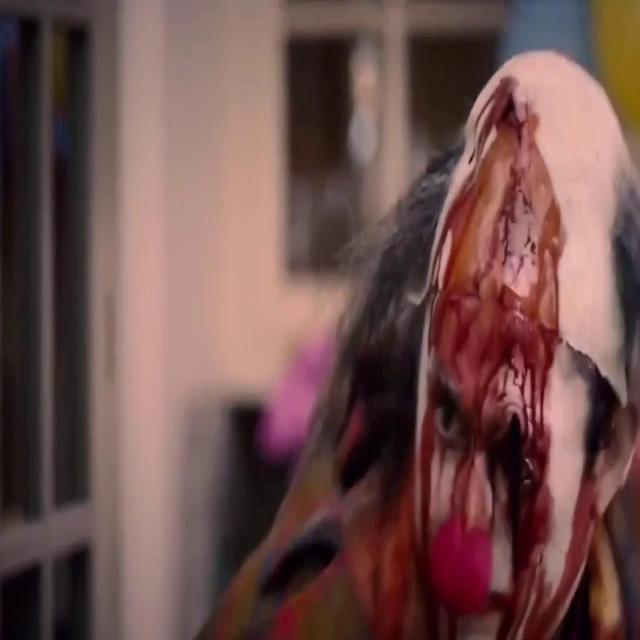flood: (423, 77, 561, 639)
